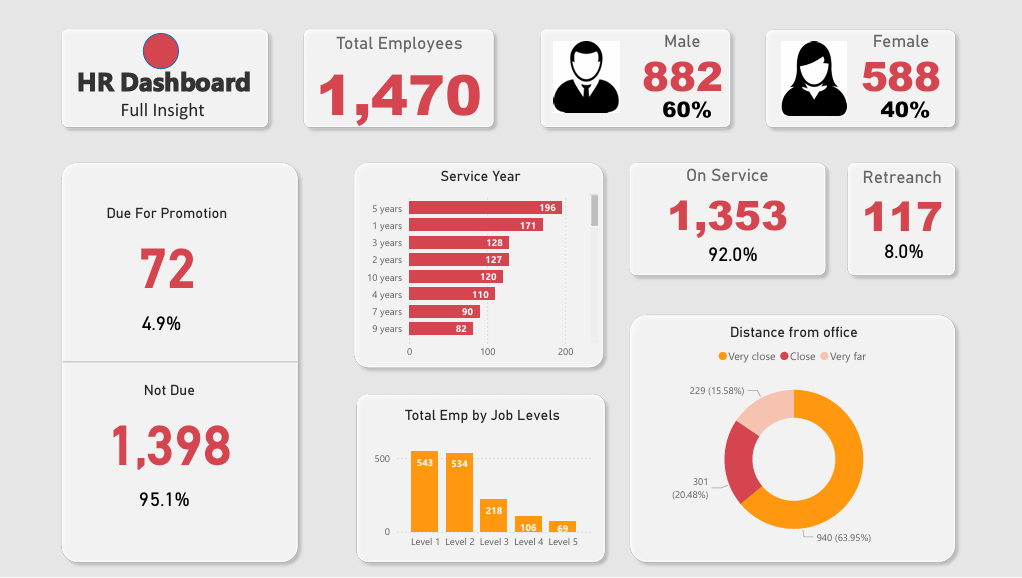

This screenshot's page, from the dashboard's own definition file:
{"tool":"powerbi","page":{"name":"Home","canvas":[1280,720],"ordinal":0},"visuals":[{"type":"shape","box":[69.8,27,276.8,140.6],"z":1000},{"type":"shape","box":[69.8,193.5,313.9,517.5],"z":2000},{"type":"shape","box":[436.4,193.5,329.6,274.5],"z":3000},{"type":"shape","box":[438.6,482.6,329.6,228.4],"z":4000},{"type":"shape","box":[779.6,193.5,264.4,159.8],"z":5000},{"type":"shape","box":[1052.9,193.5,153,159.8],"z":6000},{"type":"shape","box":[780.6,383.6,425.2,327.4],"z":7000},{"type":"shape","box":[373.4,27,255.4,140.6],"z":8000},{"type":"shape","box":[669.3,27,255.4,140.6],"z":9000},{"type":"shape","box":[950.5,28.1,255.4,139.5],"z":10000},{"type":"textbox","box":[83.2,76.5,247.5,52.9],"z":11000},{"type":"textbox","box":[142.9,121.5,124.9,43.9],"z":12000},{"type":"shape","box":[181.1,40.5,45,45],"z":13000},{"type":"card","title":"Total Employees","fields":{"Values":["All Measures.Total Emp"]},"box":[388,40.5,227.2,120.4],"z":14000},{"type":"card","title":"Male","fields":{"Values":["All Measures.Male"]},"box":[797.5,38.2,115.9,83.2],"z":15000},{"type":"card","fields":{"Values":["All Measures.% Male"]},"box":[797.5,97.9,127.1,76.5],"z":16000},{"type":"card","title":"Female","fields":{"Values":["All Measures.Female"]},"box":[1070.9,38.2,115.9,83.2],"z":17000},{"type":"card","fields":{"Values":["All Measures.% Female"]},"box":[1070.9,97.9,127.1,76.5],"z":18000},{"type":"image","box":[689.5,43.9,93.4,102.4],"z":19000},{"type":"image","box":[967.4,47.2,105.8,102.4],"z":20000},{"type":"card","title":"Due For Promotion","fields":{"Values":["All Measures.Due for promotion"]},"box":[60.6,255.4,300.4,120.4],"z":21000},{"type":"card","title":"Due For Promotion","fields":{"Values":["All Measures.% Due for promotion"]},"box":[53.9,311.6,300.4,181.1],"z":22000},{"type":"card","title":"Not Due","fields":{"Values":["All Measures.Not Due"]},"box":[64,476,300.4,120.4],"z":23000},{"type":"card","title":"Due For Promotion","fields":{"Values":["All Measures.% Not Due"]},"box":[57.3,532.2,300.4,181.1],"z":24000},{"type":"shape","box":[81,445.5,292.5,11.2],"z":25000},{"type":"barChart","title":"Service Year","fields":{"Category":["HR Analytics Data.Service Year"],"Y":["All Measures.Total Emp"]},"box":[452.1,209.2,301.5,247.5],"z":26000},{"type":"columnChart","fields":{"Category":["HR Analytics Data.Job Levels"],"Y":["All Measures.Total Emp"]},"box":[464.5,507.4,281.2,186.8],"z":27000},{"type":"card","title":"On Service","fields":{"Values":["All Measures.on service"]},"box":[803.1,205.9,218.2,95.6],"z":28000},{"type":"card","fields":{"Values":["All Measures.% on service"]},"box":[855,277.9,127.1,76.5],"z":29000},{"type":"card","title":"Retreanch","fields":{"Values":["All Measures.Retreanch"]},"box":[1060.8,208.1,139.5,93.4],"z":30000},{"type":"card","fields":{"Values":["All Measures.% Retreanch"]},"box":[1068.6,274.5,127.1,76.5],"z":31000},{"type":"donutChart","title":"Distance from office","fields":{"Category":["HR Analytics Data.Distance status"],"Y":["All Measures.Total Emp"]},"box":[803.1,402.8,383.6,291.4],"z":32000}]}

Visuals, with their boxes in screenshot pixels (x1, y1, x2, y2), scaled from the page's 1280x720 canvas onto the 1022x578 screenshot:
shape: locate(56, 22, 277, 135)
shape: locate(56, 155, 306, 571)
shape: locate(348, 155, 612, 376)
shape: locate(350, 387, 613, 571)
shape: locate(622, 155, 834, 284)
shape: locate(841, 155, 963, 284)
shape: locate(623, 308, 963, 571)
shape: locate(298, 22, 502, 135)
shape: locate(534, 22, 738, 135)
shape: locate(759, 23, 963, 135)
textbox: locate(66, 61, 264, 104)
textbox: locate(114, 98, 214, 133)
shape: locate(145, 33, 181, 69)
"Total Employees" card: locate(310, 33, 491, 129)
"Male" card: locate(637, 31, 729, 97)
card - All Measures.% Male: locate(637, 79, 738, 140)
"Female" card: locate(855, 31, 948, 97)
card - All Measures.% Female: locate(855, 79, 957, 140)
image: locate(551, 35, 625, 117)
image: locate(772, 38, 857, 120)
"Due For Promotion" card: locate(48, 205, 288, 302)
"Due For Promotion" card: locate(43, 250, 283, 396)
"Not Due" card: locate(51, 382, 291, 479)
"Due For Promotion" card: locate(46, 427, 286, 573)
shape: locate(65, 358, 298, 367)
"Service Year" barChart: locate(361, 168, 602, 367)
columnChart - HR Analytics Data.Job Levels x All Measures.Total Emp: locate(371, 407, 595, 557)
"On Service" card: locate(641, 165, 815, 242)
card - All Measures.% on service: locate(683, 223, 784, 285)
"Retreanch" card: locate(847, 167, 958, 242)
card - All Measures.% Retreanch: locate(853, 220, 955, 282)
"Distance from office" donutChart: locate(641, 323, 948, 557)
